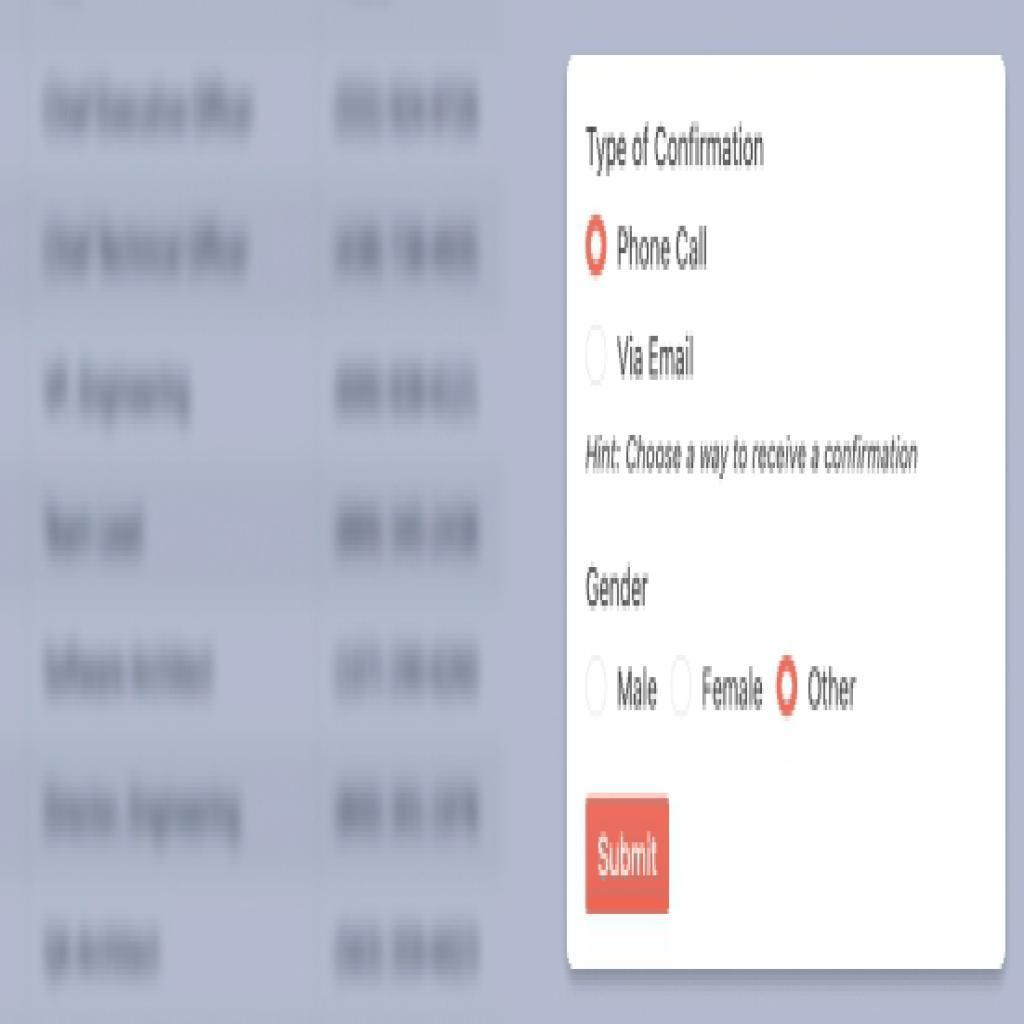button: (585, 792, 672, 918)
label: (616, 220, 712, 271), (617, 330, 697, 383), (702, 665, 765, 713), (807, 664, 864, 713), (615, 664, 664, 717)
radio: (582, 214, 611, 286), (668, 657, 696, 719), (774, 654, 800, 720), (584, 324, 611, 387), (585, 658, 610, 718)
